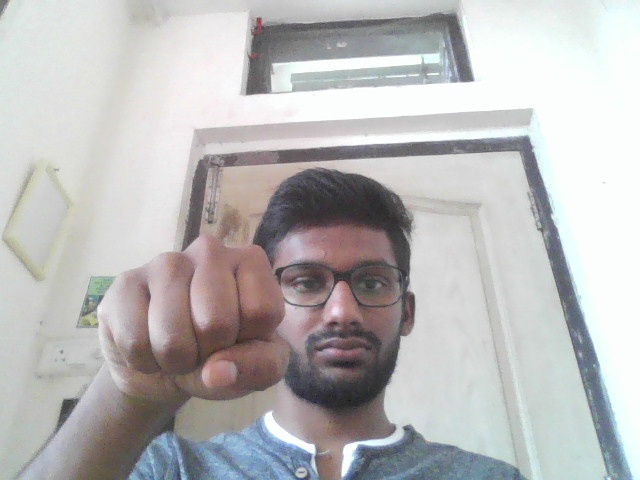No: (93, 232, 294, 409)
